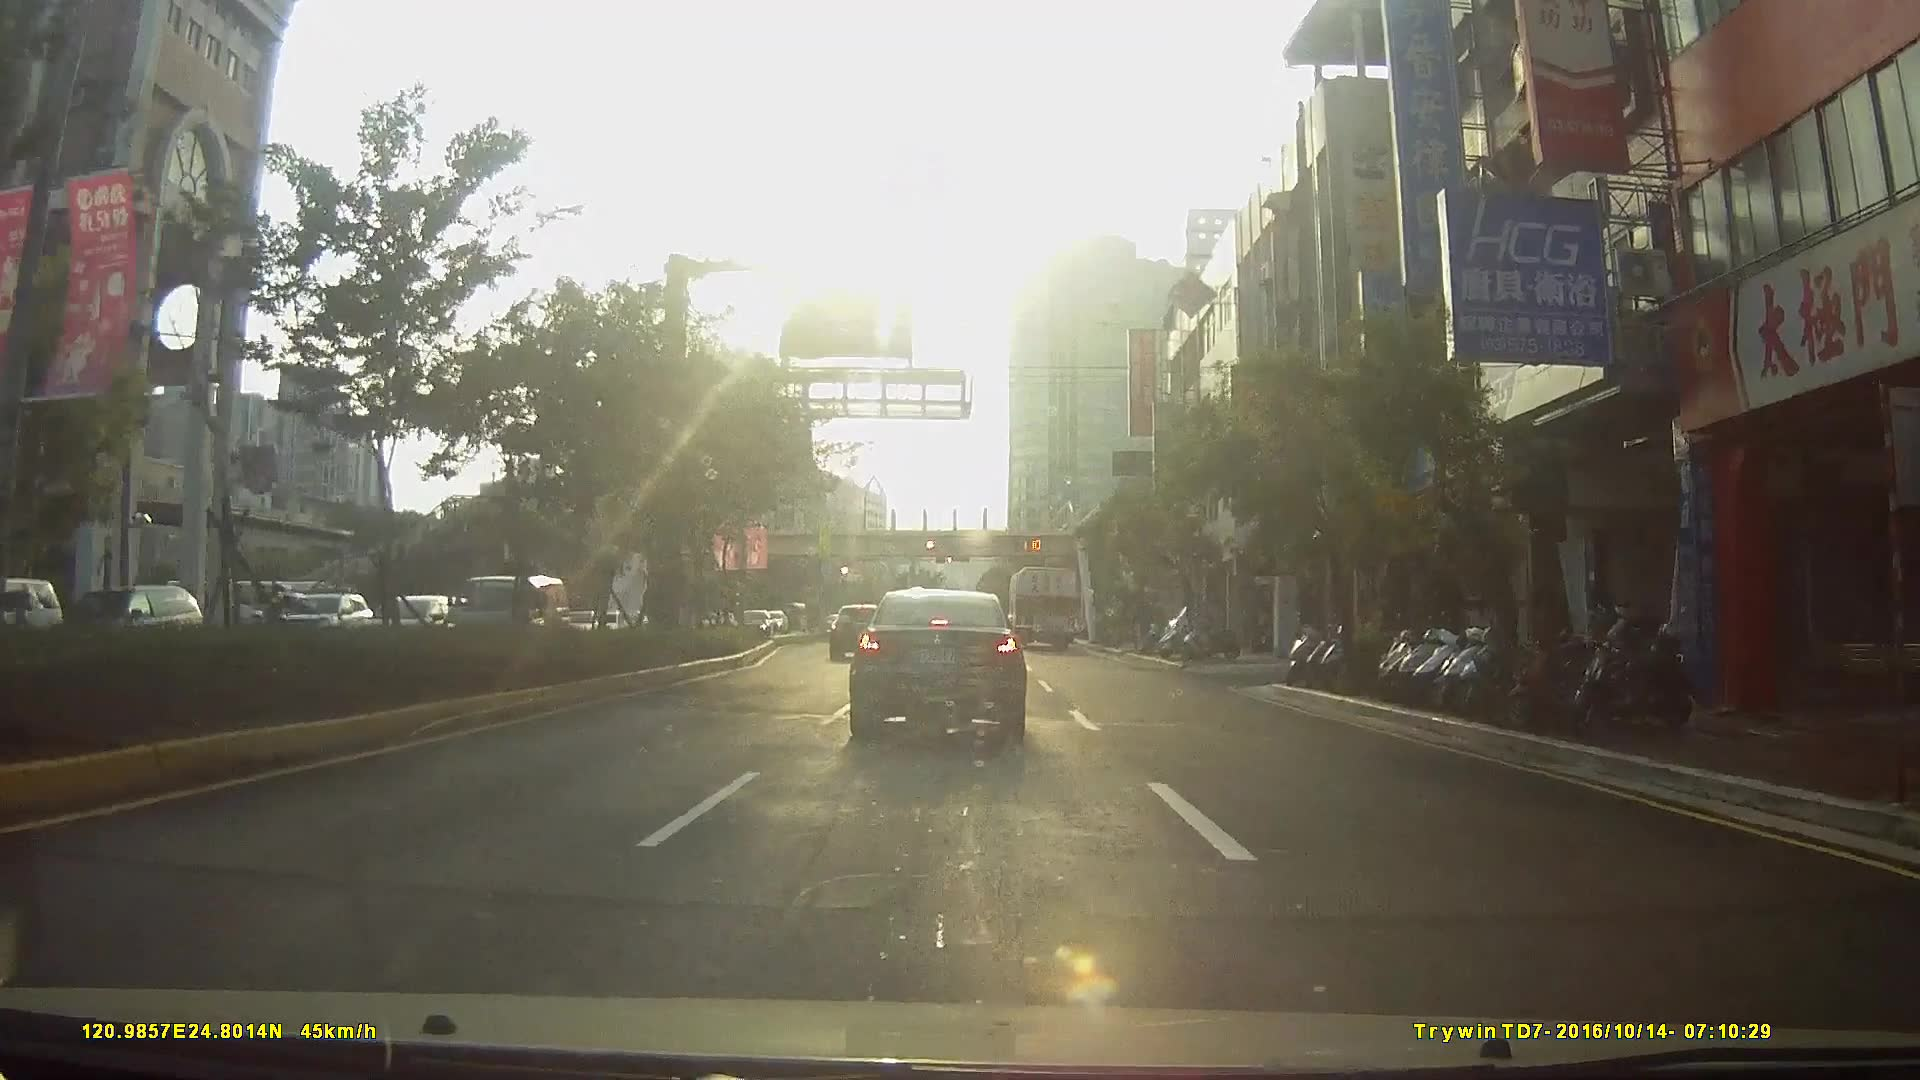vehicle: (847, 589, 1027, 749), (55, 583, 196, 659), (440, 575, 574, 650), (1004, 564, 1079, 654), (0, 578, 55, 651), (825, 603, 887, 662), (731, 609, 771, 642)
